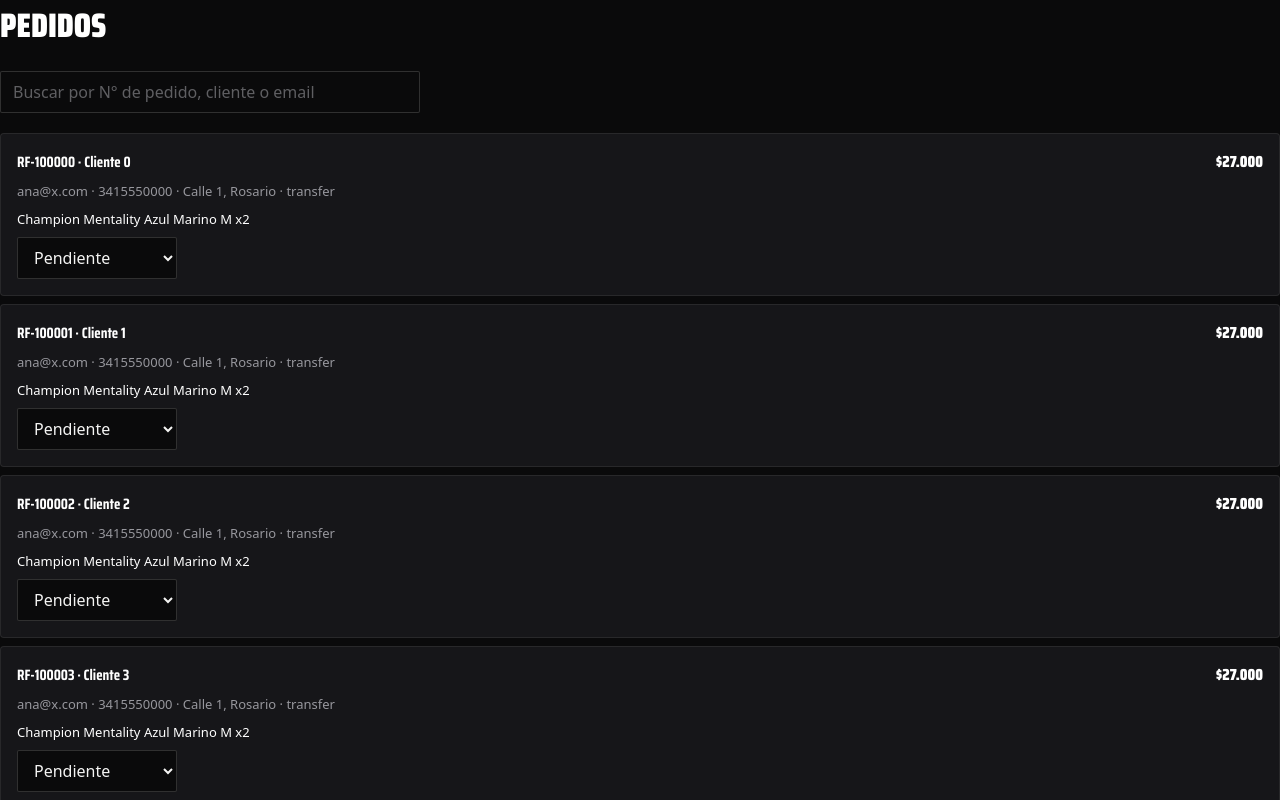
Scenario: Orders — a11y & perf › TC-ORD-022 (fixed): lista grande pagina (20 por página) y filtra por búsqueda
Expected: the heading "RF-100000 · Cliente 0" is shown, x1=17 y1=151 x2=131 y2=173
La búsqueda acota el listado a la orden buscada.
In the search field named "Buscar pedidos": (210, 92) x1=0 y1=71 x2=420 y2=113, type "RF-100007"
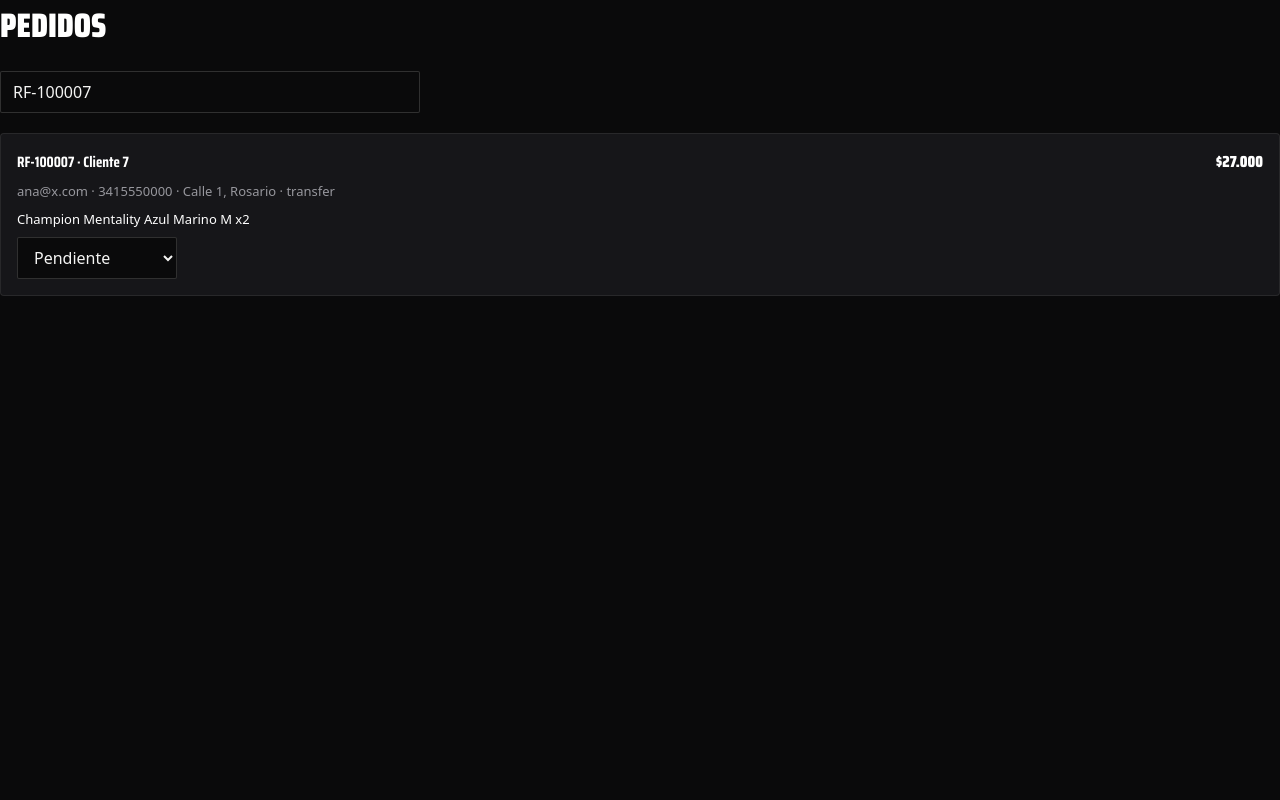
Expected: the heading "RF-100007 · Cliente 7" is shown, x1=17 y1=151 x2=129 y2=173
Result: the number of dropdowns is 1 at x1=17 y1=237 x2=177 y2=279
